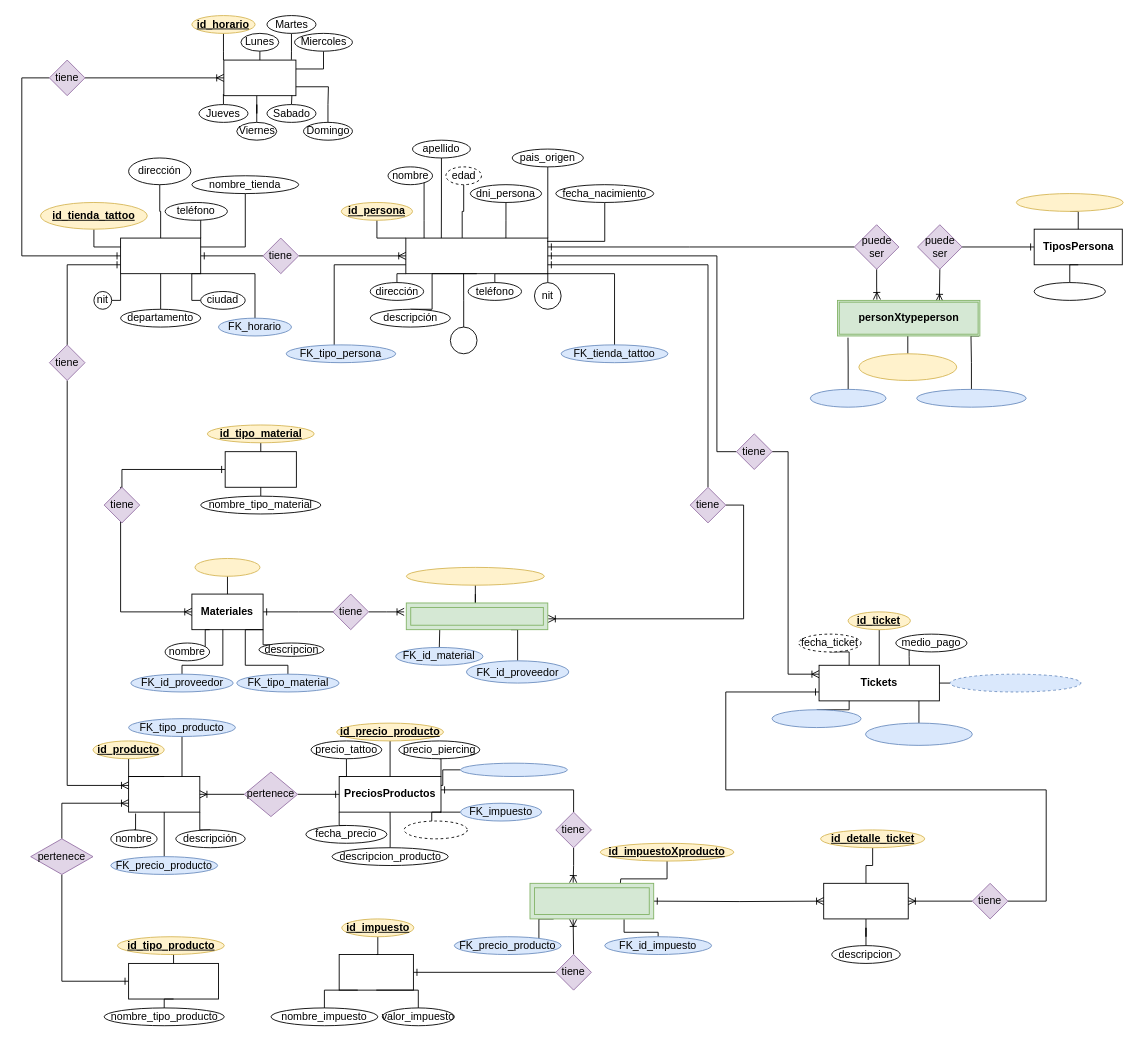
The diagram is 1139 pixels wide and 1041 high, and some of its shapes have lost their labels. The shapes that lost their labels are listed below. From the top down, each one's centre as x and y in pixels, then its label:
point (259, 77): Horarios
point (1069, 202): id_tipo_persona
point (160, 255): TiendasTattoos
point (476, 255): Personas
point (1069, 291): tipo_persona
point (463, 340): url
point (907, 366): id_perXtypeper
point (847, 397): FK_id_persona
point (971, 397): FK_id_tipo_persona
point (260, 469): TiposMaterial
point (227, 567): id_material
point (474, 575): id_proveedorXmaterial
point (476, 616): proveedorXmaterial
point (1015, 682): FK_precioproducto
point (816, 718): FK_id_cliente
point (918, 733): FK_detale_ticket
point (513, 769): FK_valor_impuesto
point (164, 794): Productos
point (435, 829): precio_total
point (591, 900): impuestoXproducto
point (865, 900): DetallesTicket
point (173, 981): TiposProductos
point (375, 972): Impuestos
